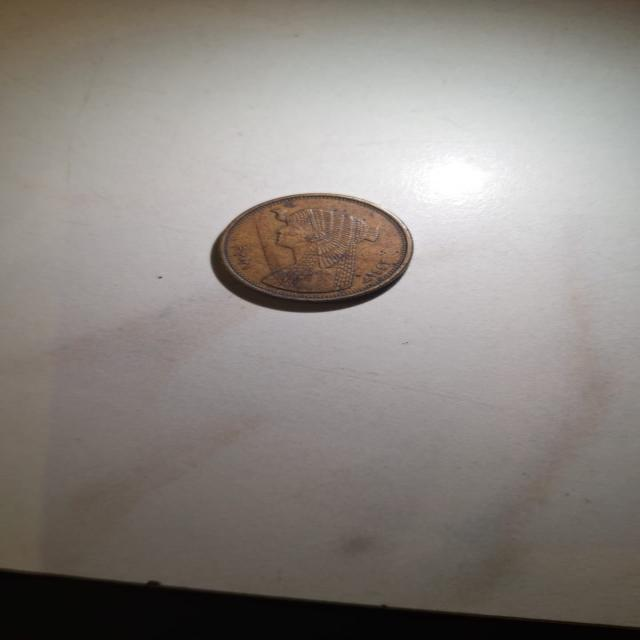Half Pound: (198, 174, 426, 325)
